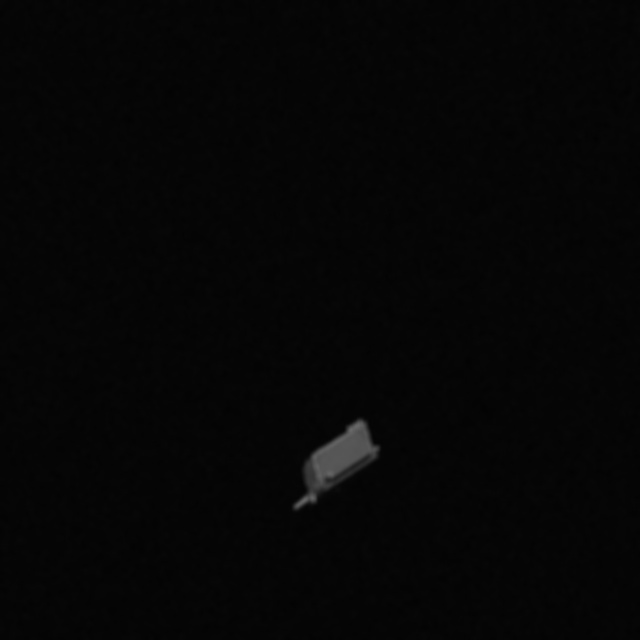medium_debris: (276, 424, 402, 512)
